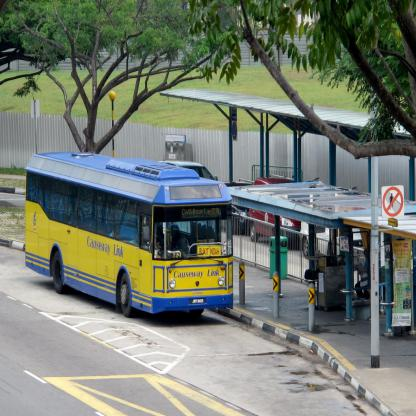Bus: (24, 148, 233, 316)
